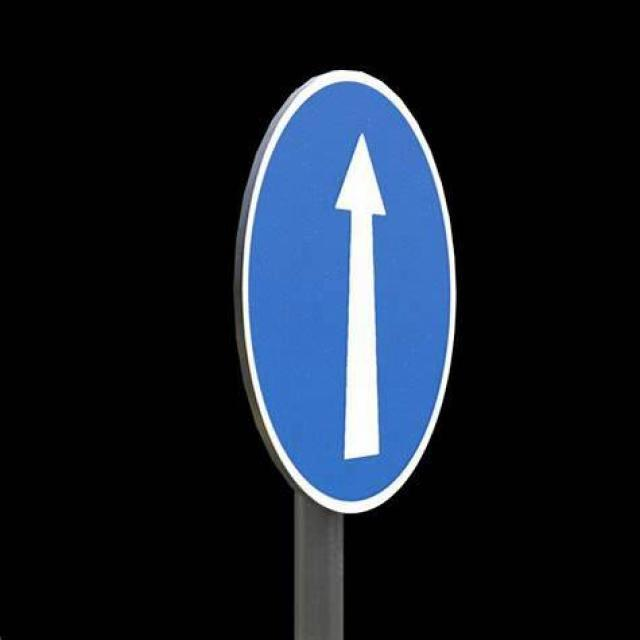compulsary ahead: (212, 64, 489, 515)
